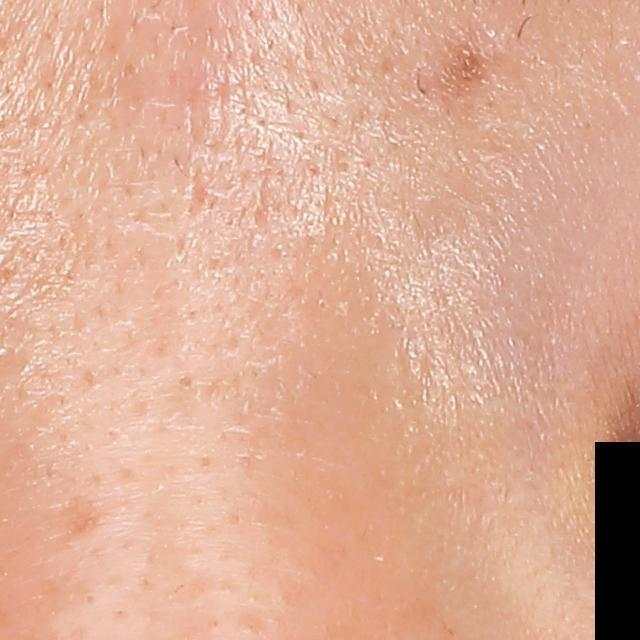comedo: (174, 372, 197, 393)
